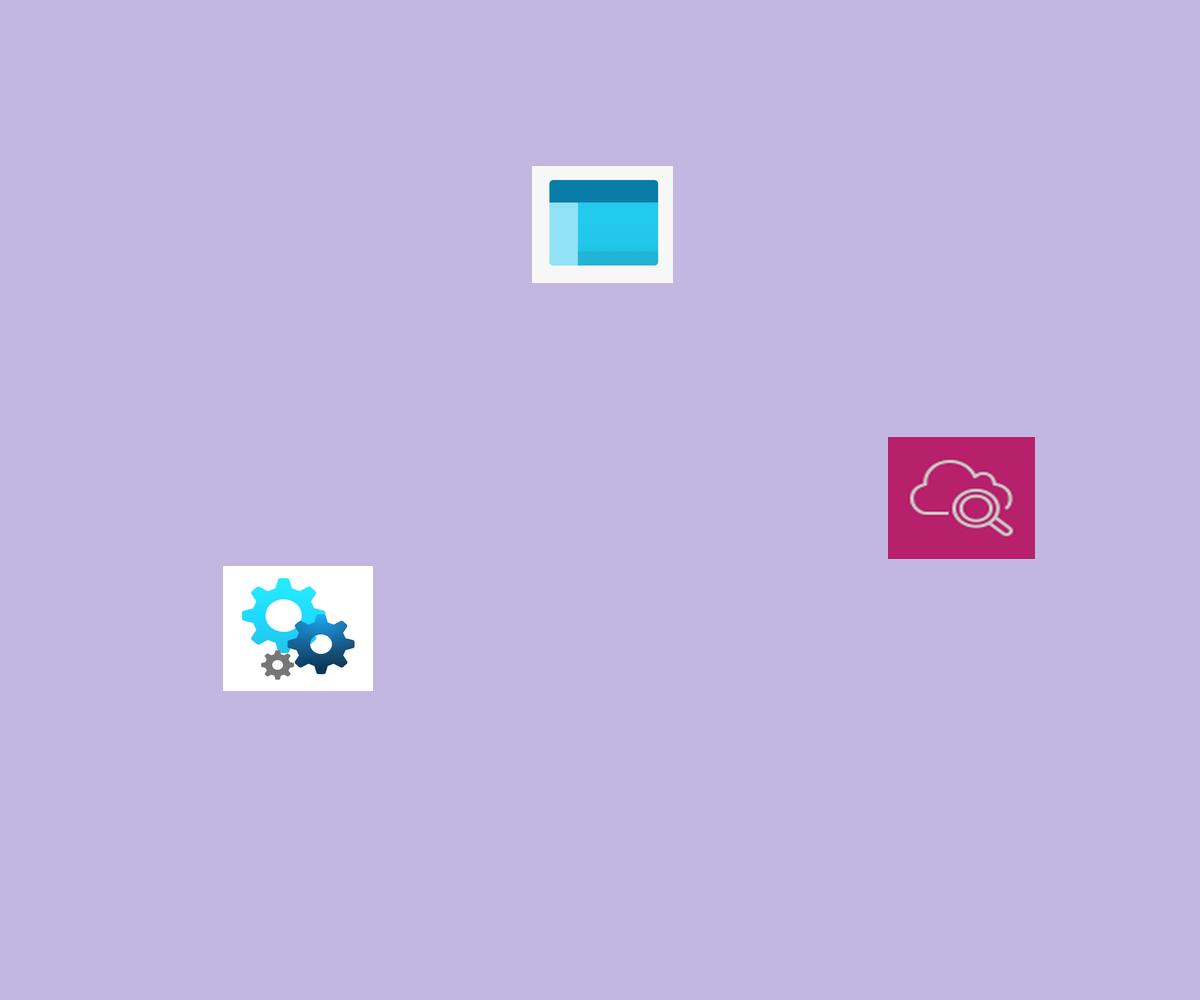AWS-CloudWatch: (888, 437, 1035, 559)
Azure_api: (223, 566, 373, 691)
Azure_management-portal: (532, 166, 673, 283)
